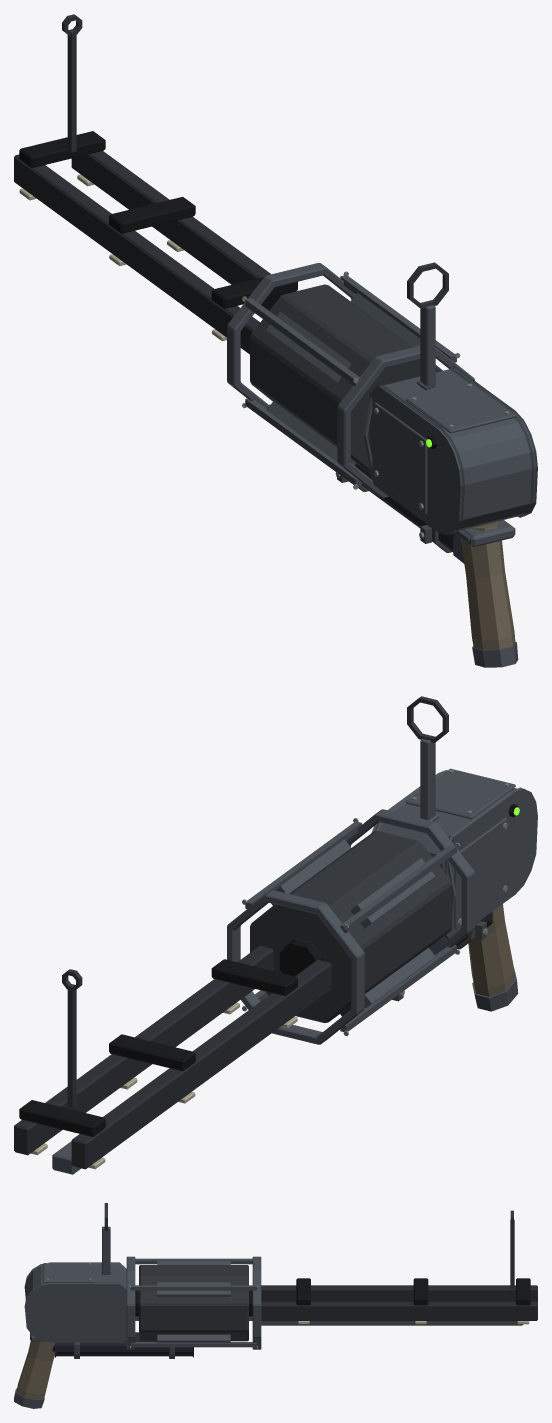
Rendered from driver_a.glb.
3 renders of one model, top to bottom at view 1: azimuth 30°, elevation 25°; view 2: azimuth 150°, elevation 25°; view 3: azimuth 270°, elevation 25°, orthographic. The views are drawn at different scales.
Parts seen in each view (by area): view 1: Body, Coils, Core; view 2: Body, Coils; view 3: Body, Coils, Core.
Boxes of the visible parts, left/top/right/bottom form: Body: left=14, top=14, right=537, bottom=667; Coils: left=250, top=284, right=442, bottom=472; Core: left=355, top=463, right=464, bottom=563; Body: left=14, top=696, right=537, bottom=1174; Coils: left=250, top=831, right=452, bottom=1022; Body: left=14, top=1203, right=537, bottom=1408; Coils: left=135, top=1261, right=252, bottom=1342; Core: left=55, top=1332, right=193, bottom=1357.
Bounding box in the file's own units: 0.1183 × 0.3029 × 0.716.
